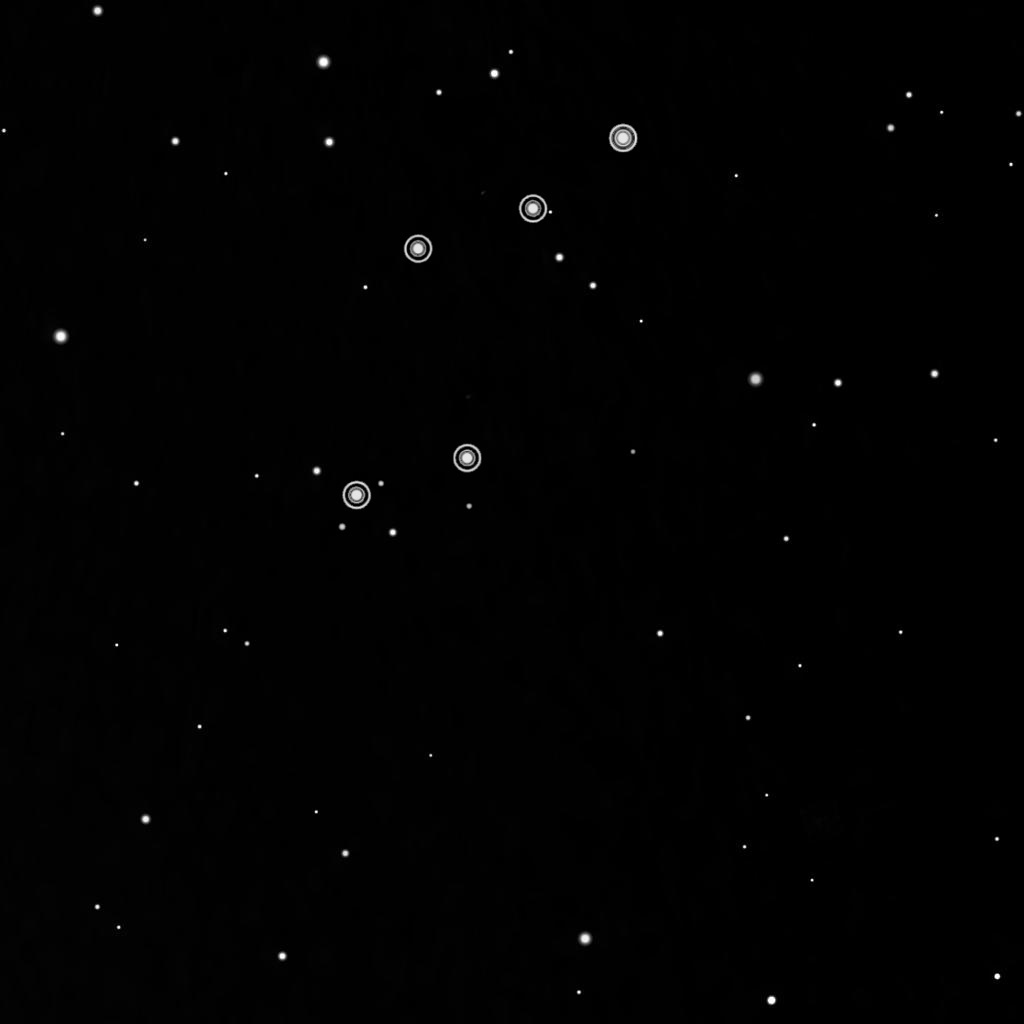lyra: (334, 117, 644, 520)
